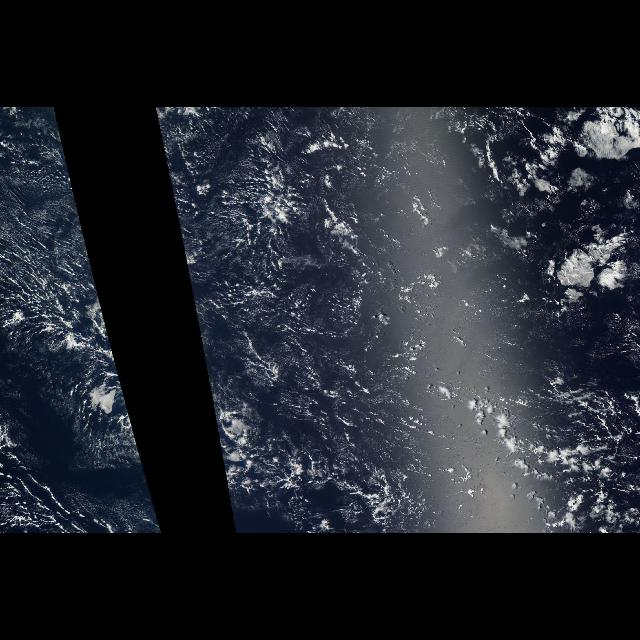Gravel: (161, 114, 613, 520), (1, 433, 117, 533)
Sugar: (0, 137, 100, 309)
